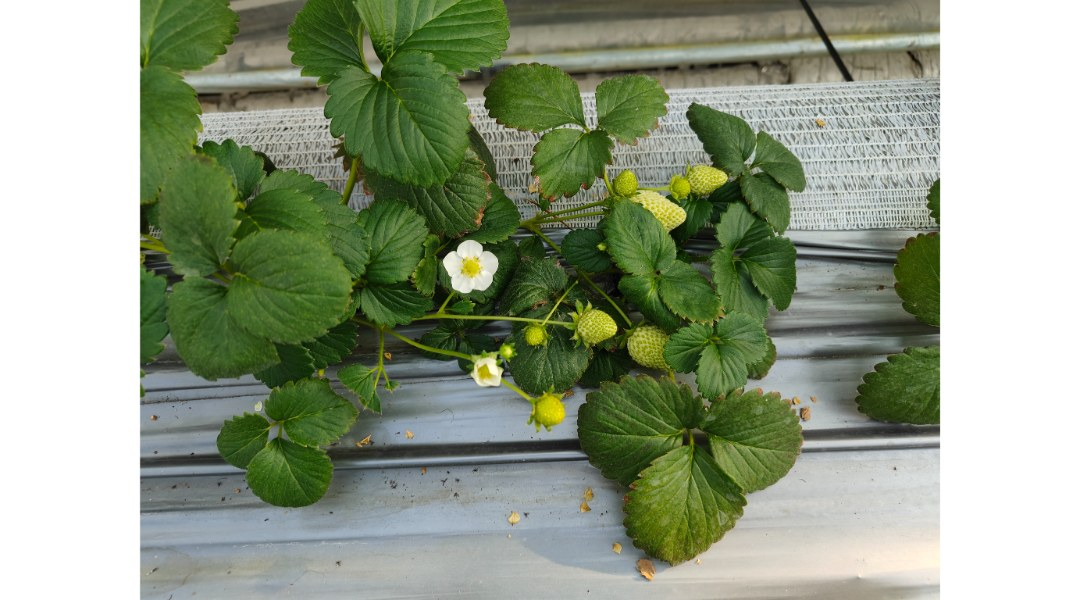berry: (571, 297, 620, 353), (683, 159, 734, 207), (632, 317, 678, 369), (525, 387, 571, 430), (660, 176, 693, 210), (612, 165, 636, 205), (495, 341, 523, 364), (524, 319, 545, 349)
flower: (440, 230, 511, 298), (464, 348, 510, 401)
strain: (586, 273, 640, 327), (397, 337, 473, 363), (534, 231, 580, 268), (499, 379, 535, 406)
